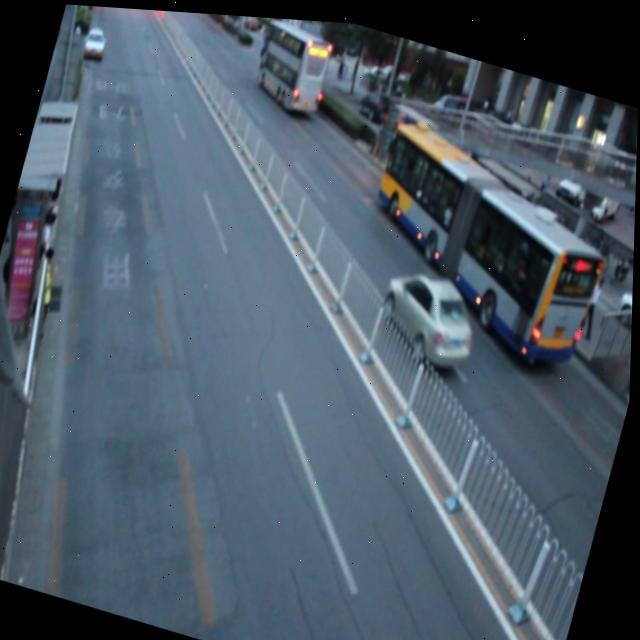car: (371, 255, 487, 373)
van: (346, 111, 622, 366), (249, 13, 336, 118)
